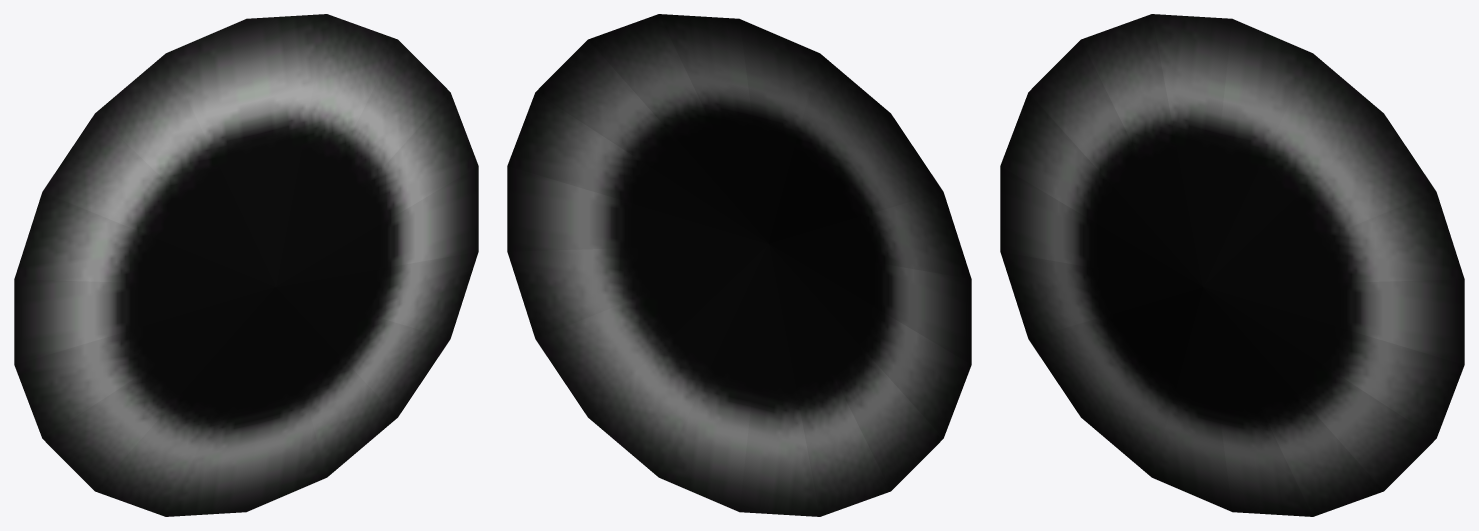
Rendered from tx_priest_zhiliaoquanshui_keep.obj.
3 views of the same model, side by side, from view 1: azimuth 30°, elevation 25°; view 2: azimuth 150°, elevation 25°; view 3: azimuth 330°, elevation 25° (orthographic).
Parts seen in each view (by area): view 1: Sphere02; view 2: Sphere02; view 3: Sphere02.
Boxes of the visible parts, <box> form: Sphere02: <box>14,14,478,516</box>; Sphere02: <box>507,14,971,516</box>; Sphere02: <box>1000,14,1464,516</box>.
Bounding box in the file's own units: 234 × 237 × 25.63.
1 material, 1 textured.
